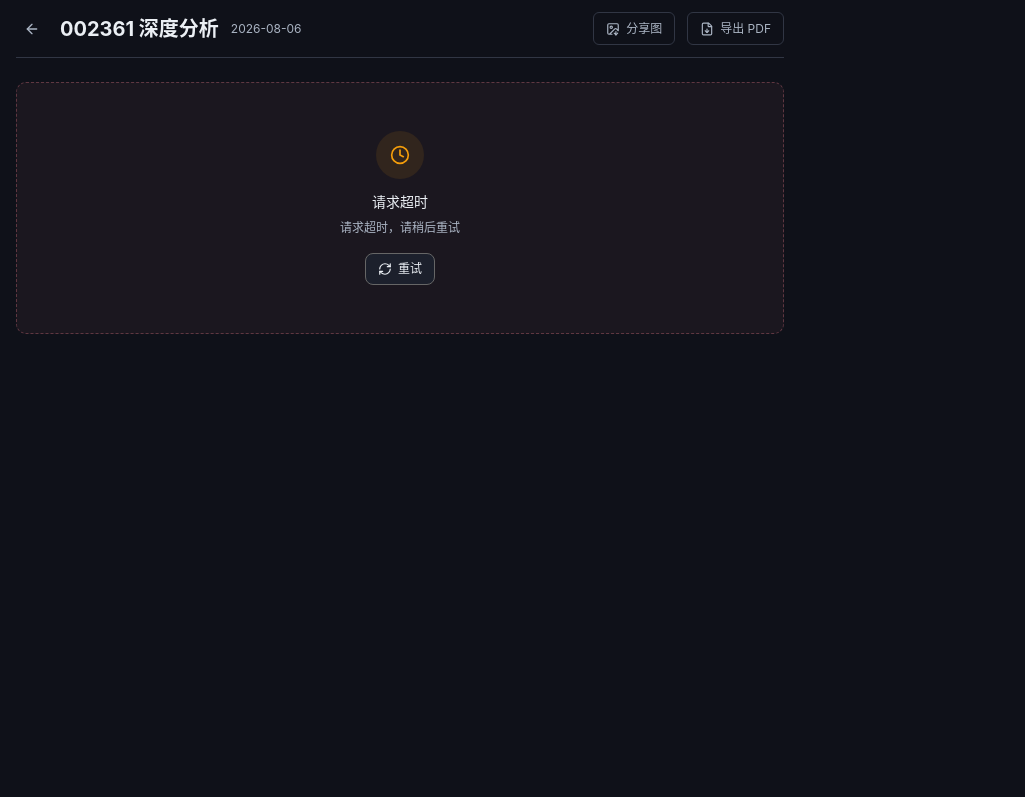
Test: AnalysisDetail 失败态 + 重试(加载韧性) › 点「重试」重新取数: 第二次成功 → 正文上屏, 错误态消失
Check: the message "请求超时 请求超时，请稍后重试 重试" is shown, box [16,82,784,334]
Click the button "重试".
click(400, 269)  # box [365,253,435,285]
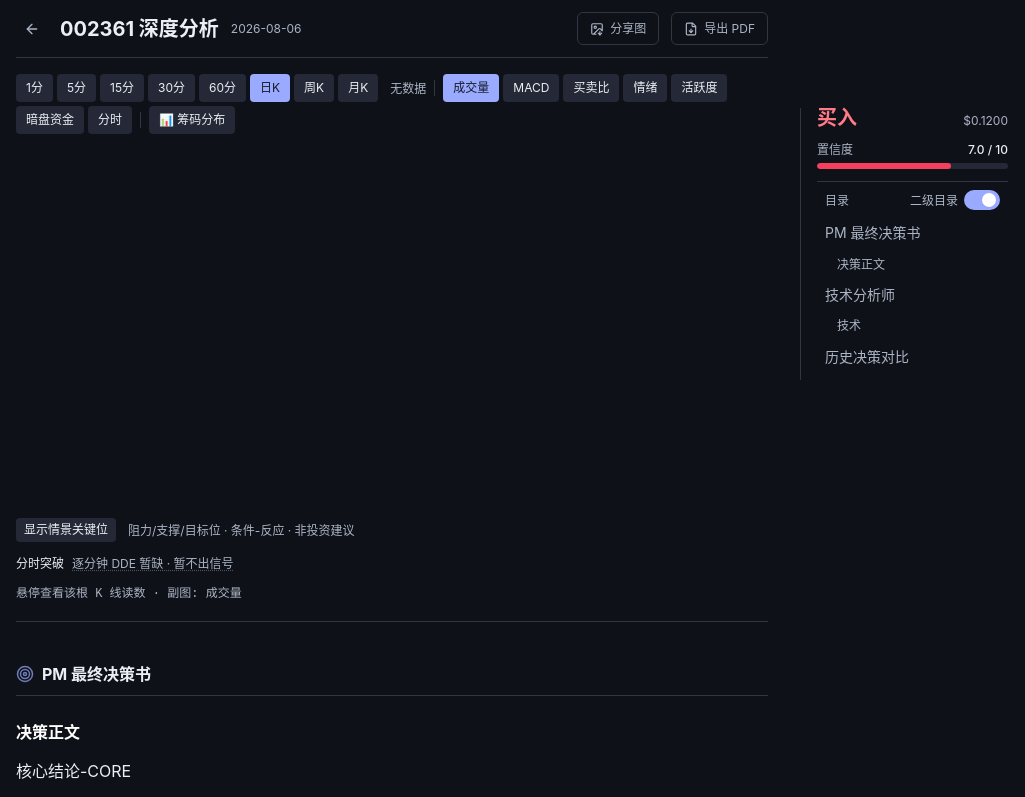
Check: the text "核心结论-CORE" is shown, box [16,761,131,781]
Check: the message "请求超时 请求超时，请稍后重试 重试" is gone
